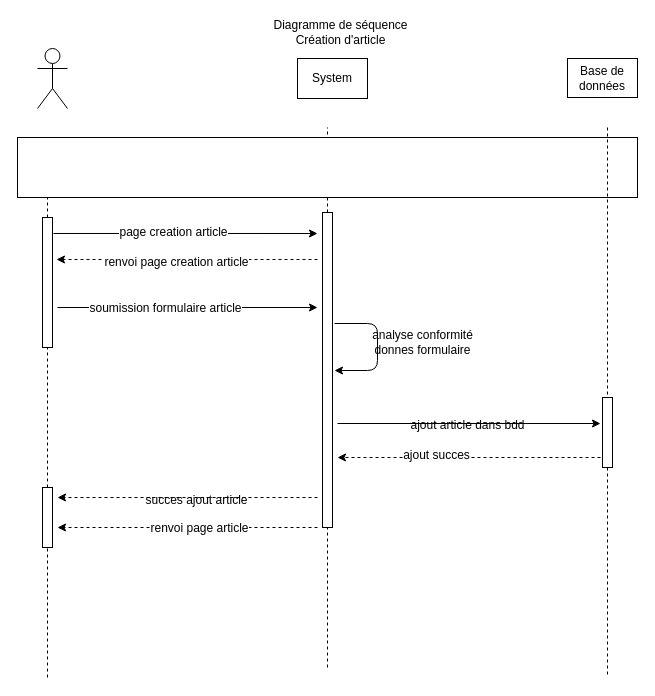
Image size: 655x696. Some labels were removed from this diagram. Each missing label, with the centre of its shape:
Connexion Cf: Diagramme de séquence connexion: point 327,167
User: point 52,78
